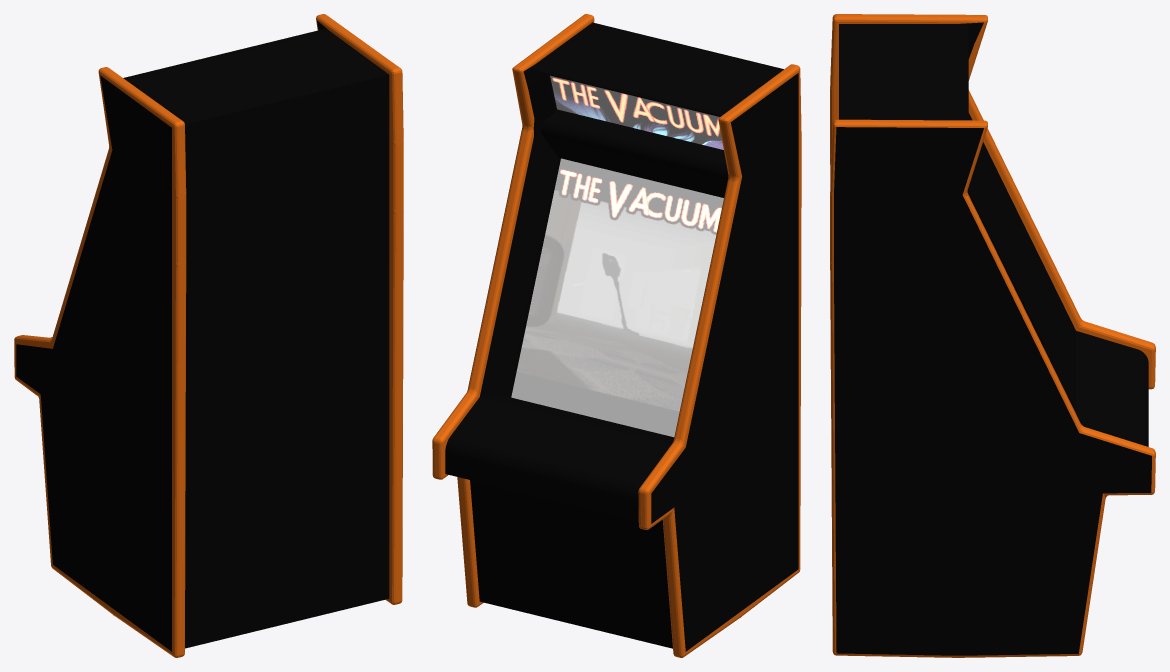
File: arcadeCabinet4.fbx
3 renders of one model, left to right at view 1: azimuth 30°, elevation 25°; view 2: azimuth 150°, elevation 25°; view 3: azimuth 270°, elevation 25°, orthographic. The views are drawn at different scales.
Visible parts, largest first — view 1: Cabinet.004; view 2: Cabinet.004; view 3: Cabinet.004.
Part boxes in pixels (x1,y1,x2,y2): Cabinet.004: (14,14,403,657); Cabinet.004: (432,14,801,657); Cabinet.004: (830,14,1155,657).
Size of the model in its own units: 109 by 244 by 135.
